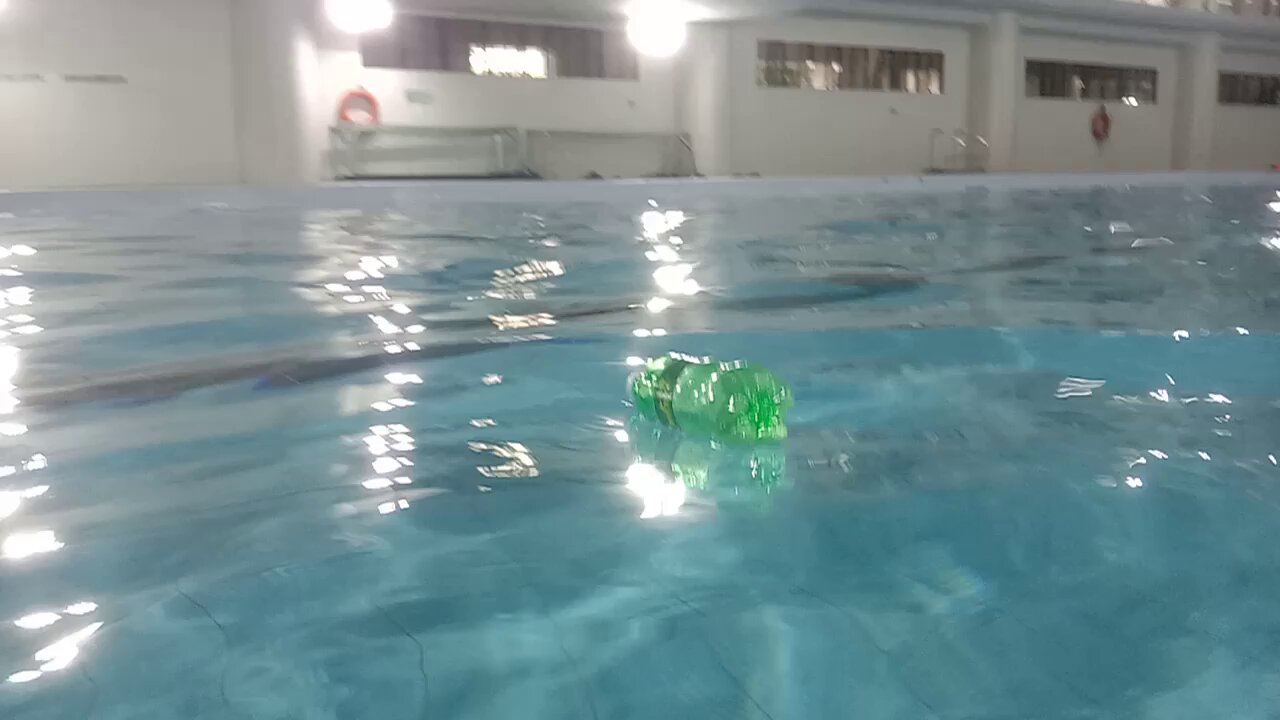plastic_bottle: (627, 356, 793, 439)
